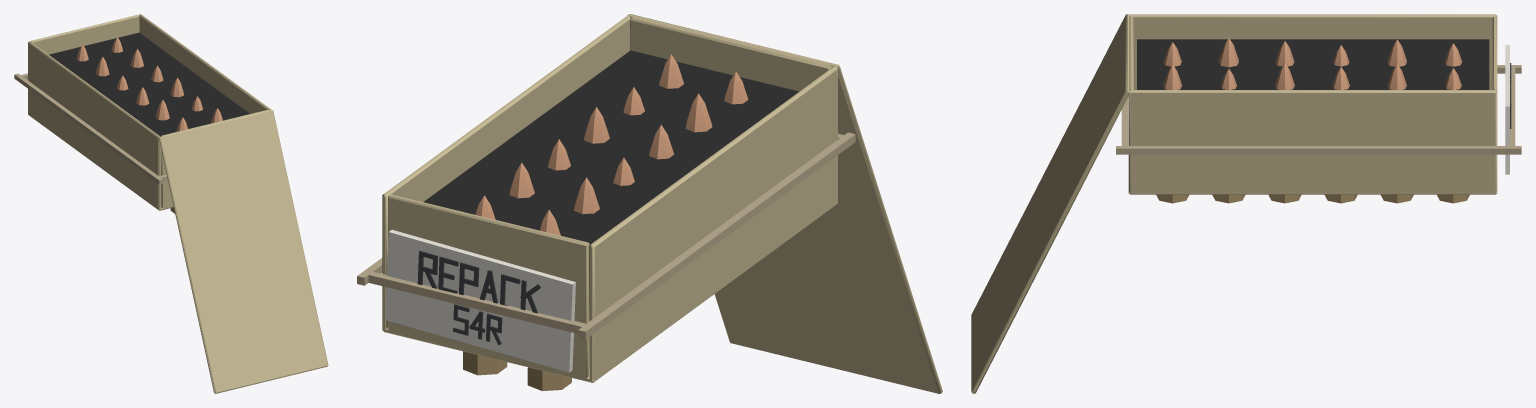
Rendered from ammo_762r_repack.glb.
3 renders of one model, left to right at view 1: azimuth 30°, elevation 25°; view 2: azimuth 150°, elevation 25°; view 3: azimuth 270°, elevation 25°, orthographic. The views are drawn at different scales.
Visible parts, largest first — view 1: body; view 2: body; view 3: body.
Boxes of the visible parts, x1=… form: body: x1=14, y1=14, x2=328, y2=393; body: x1=357, y1=14, x2=942, y2=393; body: x1=971, y1=14, x2=1521, y2=393.
Bounding box in the file's own units: 0.0484 × 0.0825 × 0.1343.
